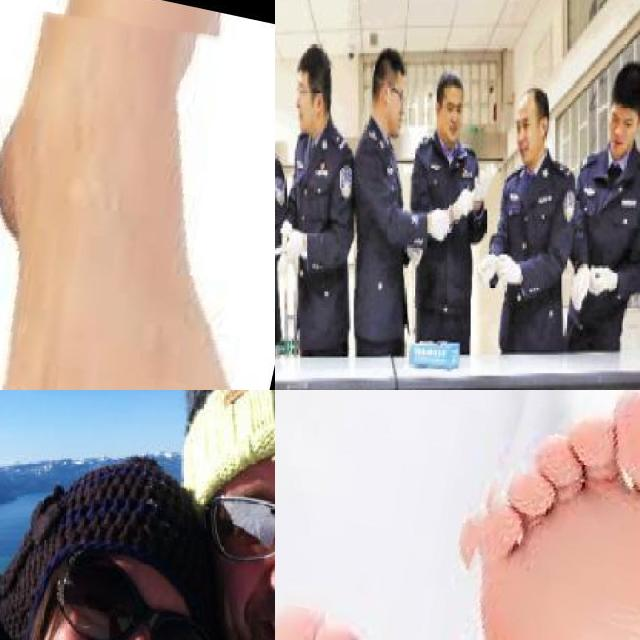Barefoots: (0, 37, 275, 390), (451, 395, 640, 640)
face_nomask: (31, 544, 200, 640), (203, 469, 275, 640), (378, 76, 412, 138), (440, 90, 469, 146), (297, 73, 321, 135), (610, 105, 640, 154), (517, 104, 538, 162)
glasses: (41, 546, 224, 640), (191, 472, 275, 567)
hand_glove: (469, 158, 497, 201), (495, 242, 520, 287), (586, 260, 614, 300), (426, 202, 451, 242), (569, 264, 589, 312), (278, 222, 302, 260), (475, 250, 497, 286), (452, 190, 474, 218)
head_nohelmet: (606, 71, 640, 114), (372, 47, 411, 81), (295, 44, 329, 76), (435, 68, 463, 98), (512, 87, 549, 105)
person: (275, 37, 352, 390), (559, 57, 640, 390), (419, 68, 490, 390), (356, 39, 421, 390), (489, 82, 560, 390)
